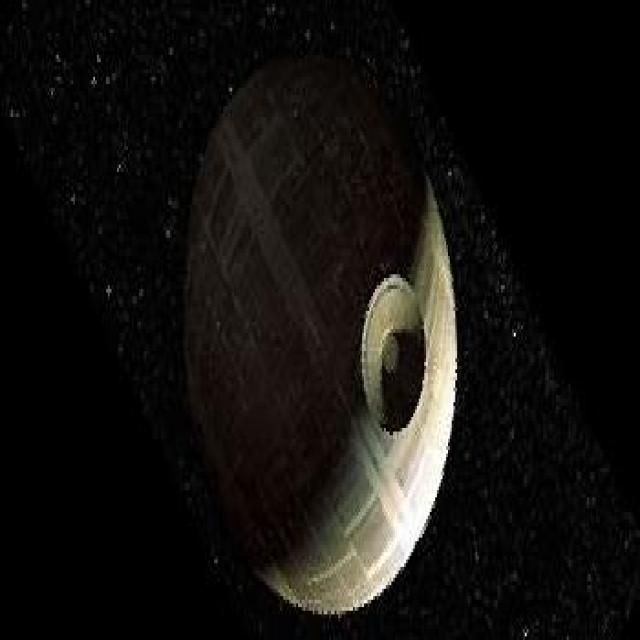Death Star: (175, 48, 461, 618)
